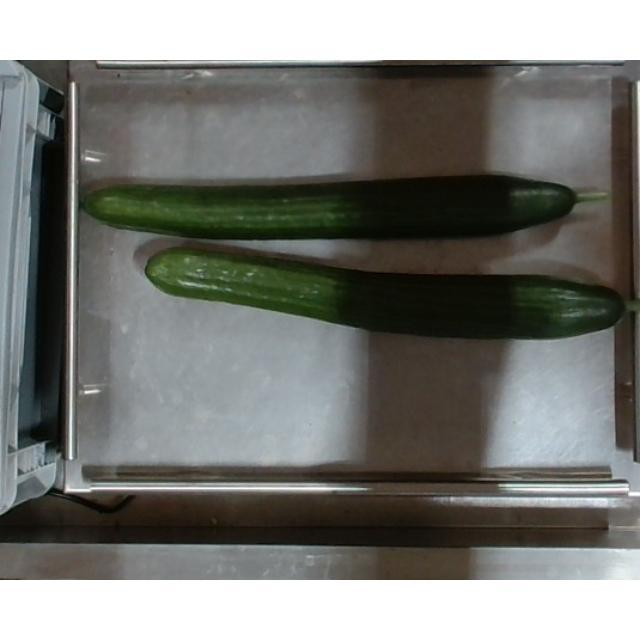cucumber: (136, 242, 640, 340), (81, 172, 609, 244)
